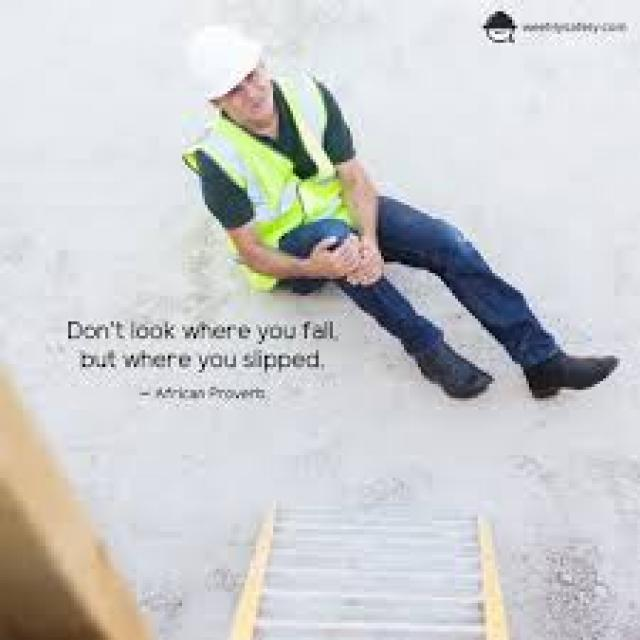Reflective-Jacket: (171, 74, 381, 290)
Safety-Helmet: (174, 20, 282, 105)
